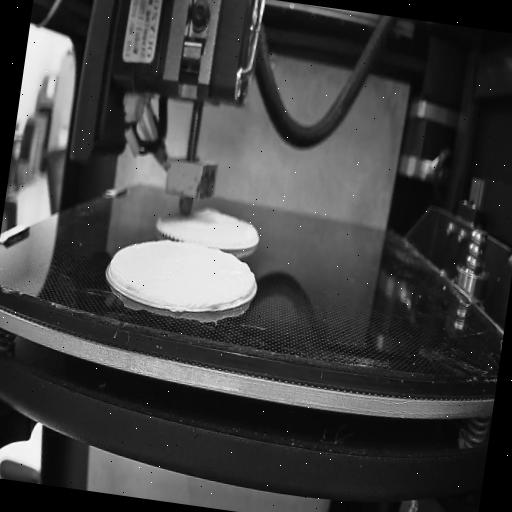over_extrusion: (238, 271, 260, 308)
